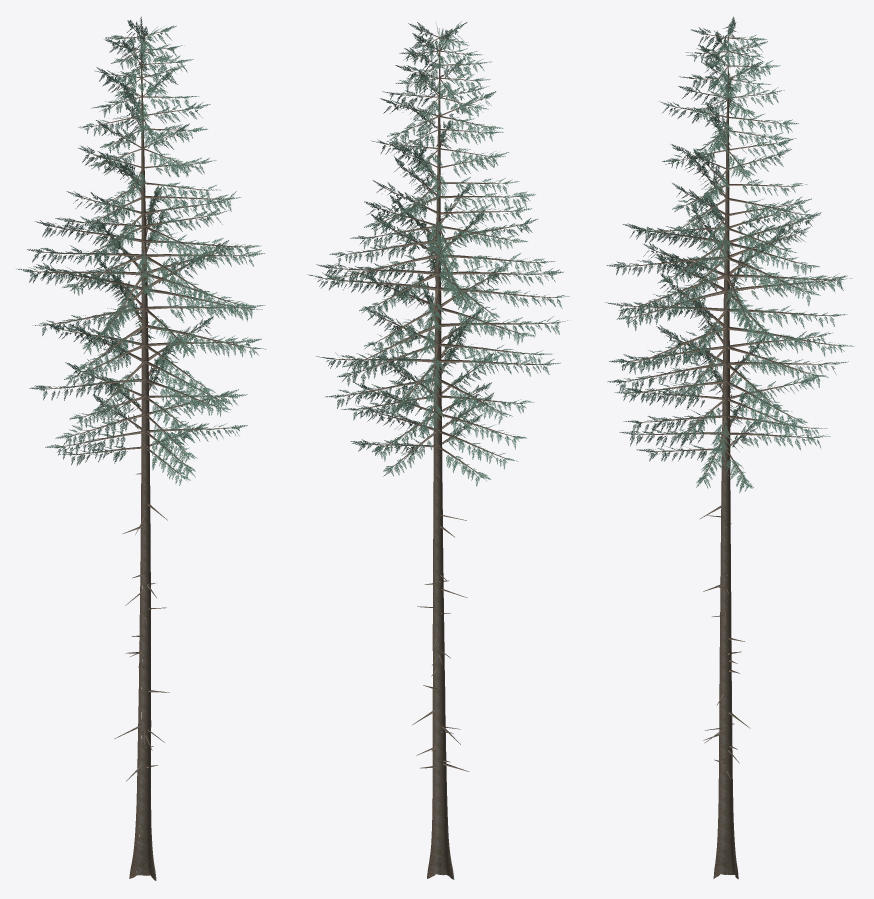
File: hoh_sitka_spruce.glb
3 views of the same model, side by side, from view 1: azimuth 30°, elevation 25°; view 2: azimuth 150°, elevation 25°; view 3: azimuth 270°, elevation 25° (orthographic).
Visible parts, largest first — view 1: hoh_sitka_spruce; view 2: hoh_sitka_spruce; view 3: hoh_sitka_spruce.
Part boxes in pixels (x1,y1,x2,y2): hoh_sitka_spruce: [16, 16, 266, 880]; hoh_sitka_spruce: [308, 21, 570, 879]; hoh_sitka_spruce: [605, 16, 854, 879].
Bounding box in the file's own units: 10.37 × 38.79 × 10.48.
Materials: 2 (2 with a texture image).
